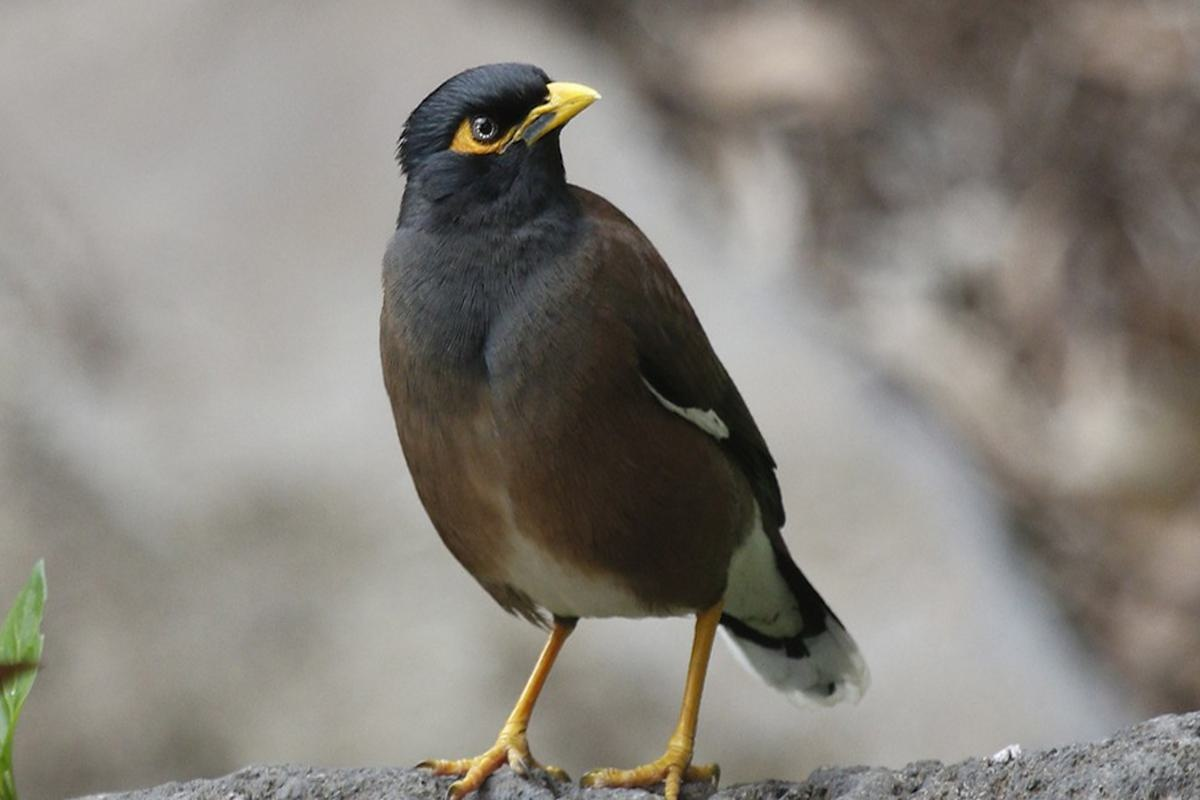myna: (370, 51, 877, 777)
